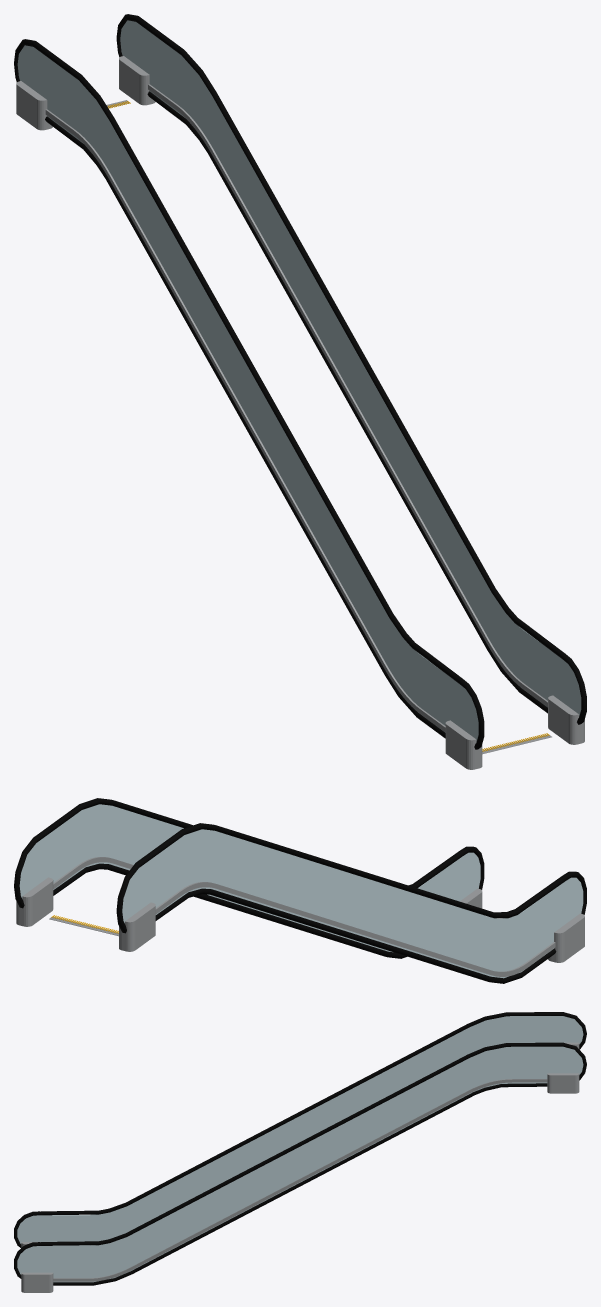
File: gteki_escalator_dress_s1000_r4000_glass.glb
The picture shows the model from 3 angles, top to bottom: view 1: azimuth 30°, elevation 25°; view 2: azimuth 150°, elevation 25°; view 3: azimuth 270°, elevation 25°; orthographic projection. The views are drawn at different scales.
Visible parts, largest first — view 1: VIS_body; view 2: VIS_body; view 3: VIS_body.
Boxes of the visible parts, x1,y1,x2,y2 form: VIS_body: (14,14,586,769); VIS_body: (14,798,586,983); VIS_body: (14,1012,586,1292).
Size of the model in its own units: 1.52 by 4.98 by 10.42.
2 materials, 2 textured.
